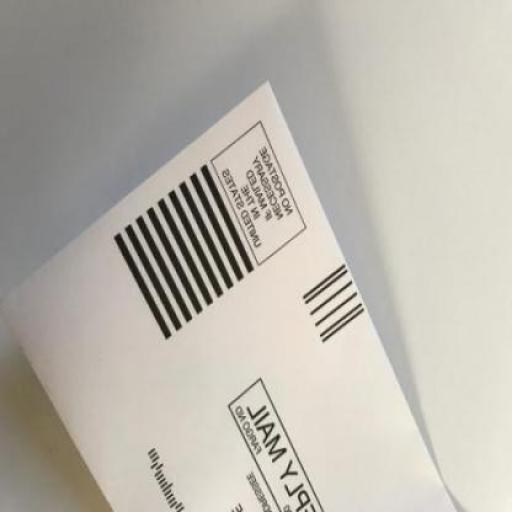paper: (7, 79, 461, 511)
